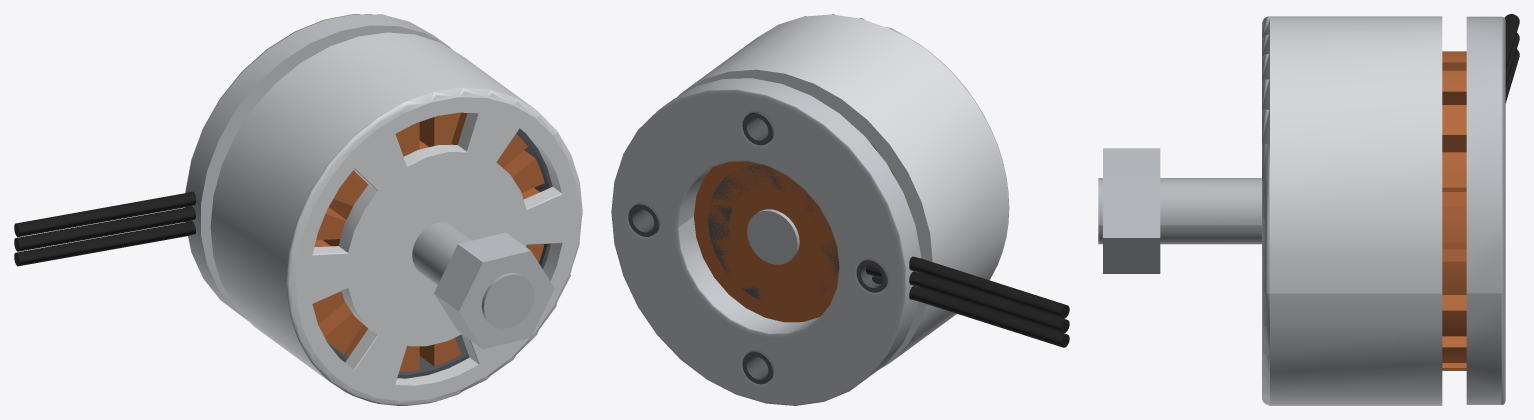
The model's file is betafpv-snow-2306-1860kv.glb.
3 renders of one model, left to right at view 1: azimuth 30°, elevation 25°; view 2: azimuth 150°, elevation 25°; view 3: azimuth 270°, elevation 25°, orthographic. The views are drawn at different scales.
Parts seen in each view (by area): view 1: bell, base, stator_windings, prop_nut, shaft, lead_3, lead_1, lead_2, magnets; view 2: base, bell, stator_windings, stator_core, lead_2, lead_1, lead_3, shaft, mount_hole_4, mount_hole_3, mount_hole_1, mount_hole_2; view 3: bell, base, stator_windings, prop_nut, shaft, lead_3.
Part boxes in pixels (left/top/right/bottom): bell: left=210, top=32, right=582, bottom=405; base: left=185, top=14, right=452, bottom=320; stator_windings: left=312, top=112, right=544, bottom=371; prop_nut: left=434, top=232, right=554, bottom=349; shaft: left=412, top=222, right=534, bottom=328; lead_3: left=14, top=191, right=195, bottom=236; lead_1: left=14, top=221, right=195, bottom=266; lead_2: left=14, top=206, right=195, bottom=251; magnets: left=327, top=128, right=552, bottom=378; base: left=611, top=78, right=921, bottom=405; bell: left=677, top=14, right=1009, bottom=369; stator_windings: left=694, top=161, right=839, bottom=322; stator_core: left=708, top=165, right=839, bottom=300; lead_2: left=866, top=265, right=1069, bottom=333; lead_1: left=872, top=276, right=1069, bottom=347; lead_3: left=909, top=256, right=1069, bottom=318; shaft: left=747, top=209, right=799, bottom=264; mount_hole_4: left=628, top=203, right=659, bottom=236; mount_hole_3: left=742, top=351, right=773, bottom=384; mount_hole_1: left=742, top=112, right=773, bottom=145; mount_hole_2: left=856, top=259, right=887, bottom=292; bell: left=1262, top=16, right=1442, bottom=405; base: left=1466, top=16, right=1505, bottom=404; stator_windings: left=1442, top=51, right=1466, bottom=370; prop_nut: left=1103, top=148, right=1160, bottom=273; shaft: left=1098, top=178, right=1261, bottom=244; lead_3: left=1505, top=14, right=1519, bottom=69.
Size of the model in its own units: 45.52 by 29.3 by 31.67.
